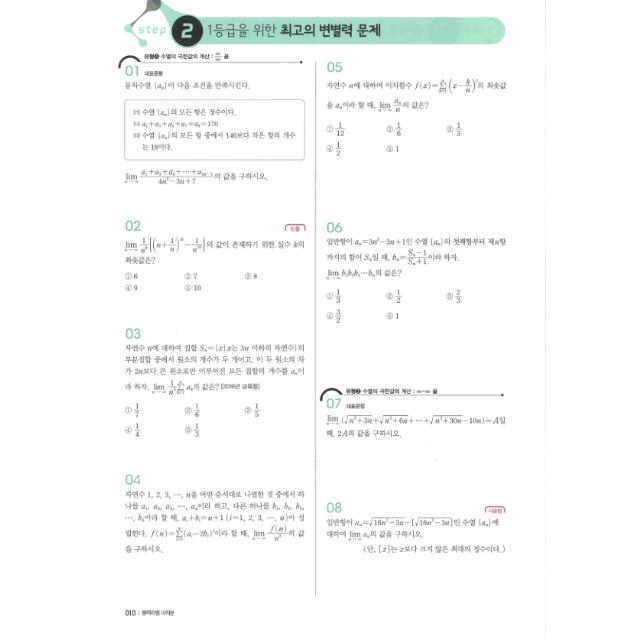multiple: (118, 320, 308, 452), (318, 210, 516, 334), (318, 54, 512, 164), (115, 208, 308, 310)
short: (110, 48, 310, 194), (117, 466, 311, 570), (317, 492, 517, 568), (316, 378, 514, 454)
